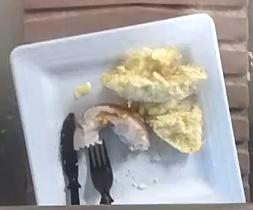donut: (103, 46, 207, 153), (74, 106, 149, 151)
